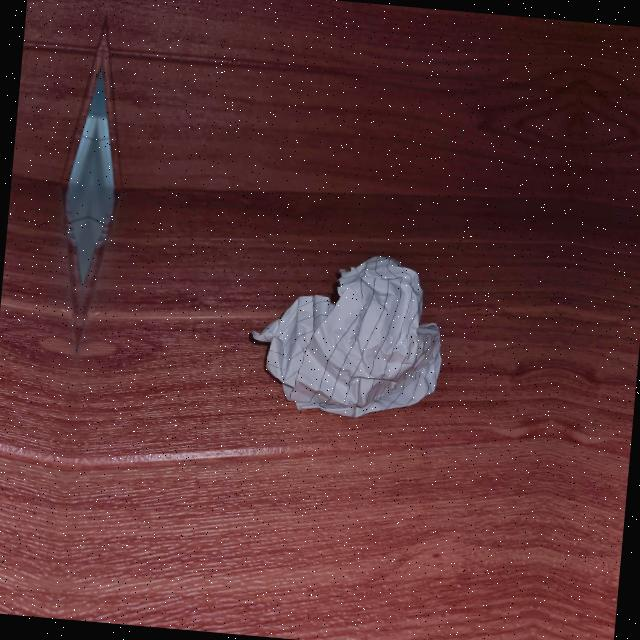paper: (242, 243, 469, 434)
